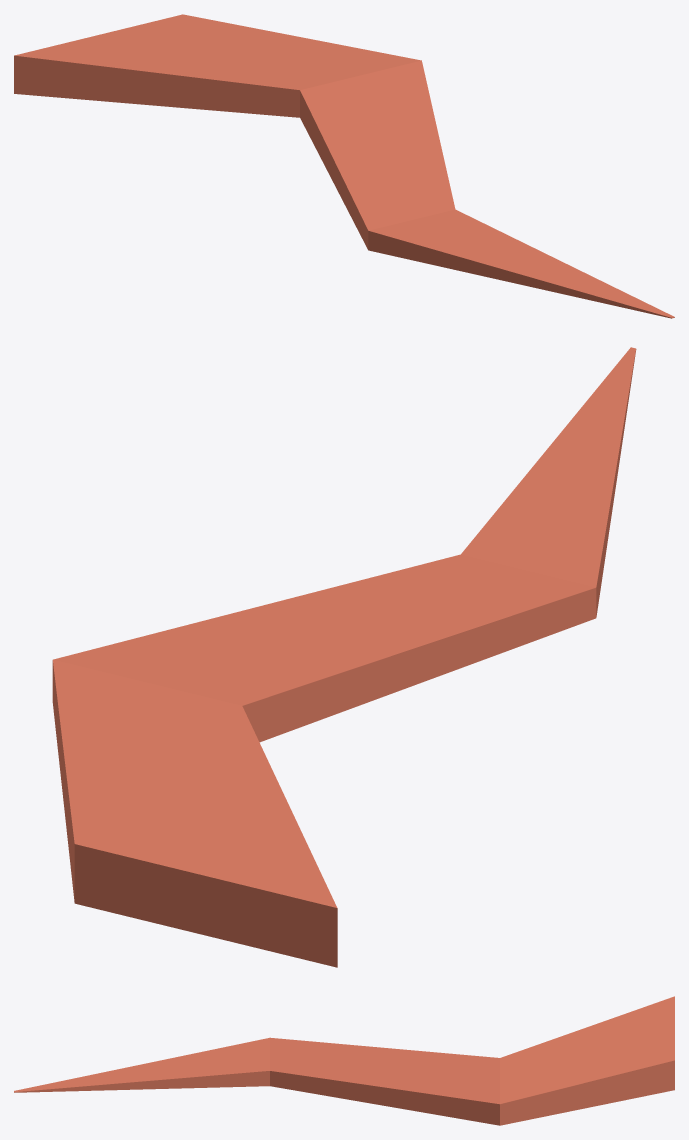
File: Manananggal tongue.fbx
3 renders of one model, top to bottom at view 1: azimuth 30°, elevation 25°; view 2: azimuth 150°, elevation 25°; view 3: azimuth 270°, elevation 25°, orthographic. The views are drawn at different scales.
Visible parts, largest first — view 1: Manananggal tongue; view 2: Manananggal tongue; view 3: Manananggal tongue.
Boxes of the visible parts, x1,y1,x2,y2 form: Manananggal tongue: [14, 14, 674, 318]; Manananggal tongue: [52, 347, 636, 967]; Manananggal tongue: [14, 996, 674, 1125].
Size of the model in its own units: 98.91 by 13.95 by 246.
